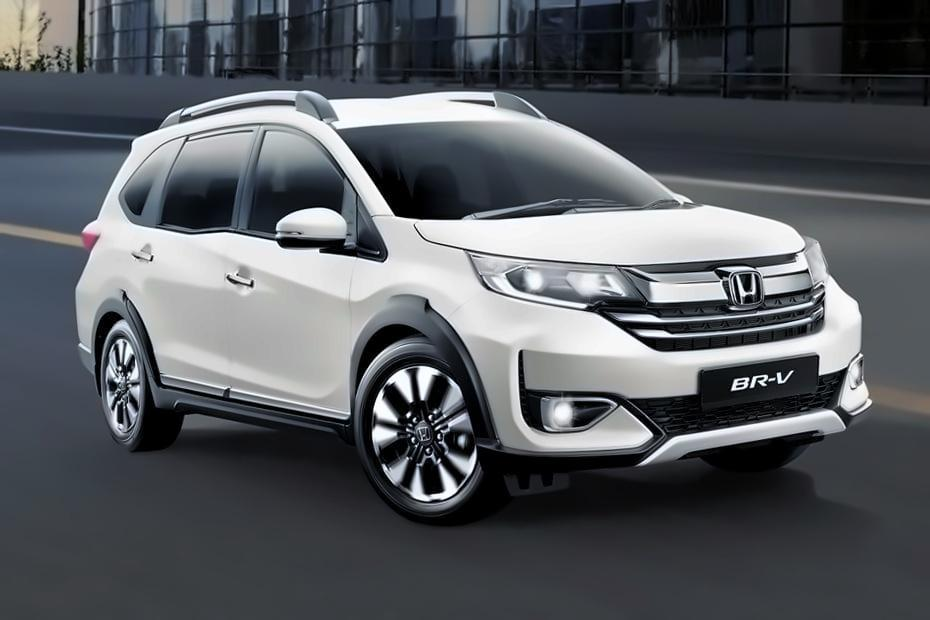Car hood: (412, 200, 809, 269)
Driver-s door - -F-R-: (225, 113, 350, 421)
Fender - -F-R-: (350, 213, 487, 421)
Fender - -R-R-: (89, 211, 137, 345)
Front bumper: (440, 292, 890, 479)
Headlight - -L-: (791, 230, 836, 293)
Headlight - -R-: (461, 243, 652, 317)
Passenger-s door - -R-R-: (127, 120, 244, 411)
Rear bumper: (63, 287, 104, 386)
Rear light - -R-: (75, 208, 106, 257)
Side bumper - -R-: (141, 369, 358, 448)
Side mirror - -R-: (272, 201, 354, 254)
